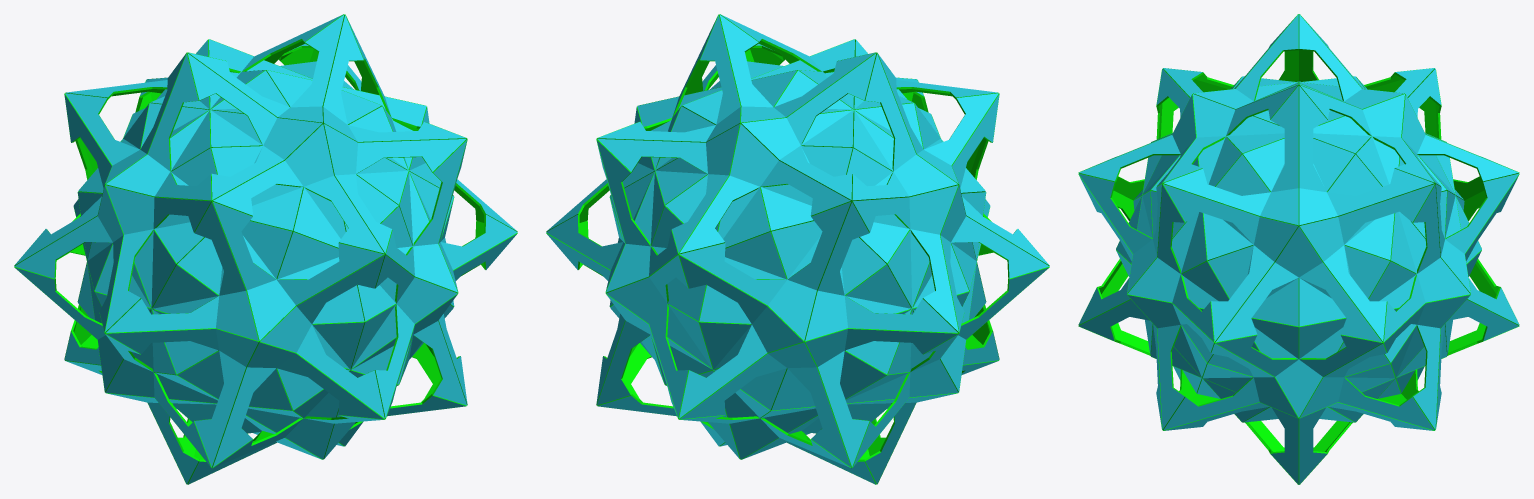
The model's file is MedialIcosacronicHexecontahedronS.glb.
The picture shows the model from 3 angles, left to right: view 1: azimuth 30°, elevation 25°; view 2: azimuth 150°, elevation 25°; view 3: azimuth 270°, elevation 25°; orthographic projection. The views are drawn at different scales.
Parts seen in each view (by area): view 1: Mesh_0001_1, Mesh_0001; view 2: Mesh_0001_1, Mesh_0001; view 3: Mesh_0001_1, Mesh_0001.
Boxes of the visible parts, left/top/right/bottom form: Mesh_0001_1: left=14, top=14, right=517, bottom=484; Mesh_0001: left=14, top=14, right=517, bottom=484; Mesh_0001_1: left=546, top=14, right=1049, bottom=484; Mesh_0001: left=546, top=14, right=1049, bottom=484; Mesh_0001_1: left=1078, top=14, right=1519, bottom=484; Mesh_0001: left=1078, top=14, right=1519, bottom=484.
Bounding box in the file's own units: 10.38 × 10.38 × 10.38.
